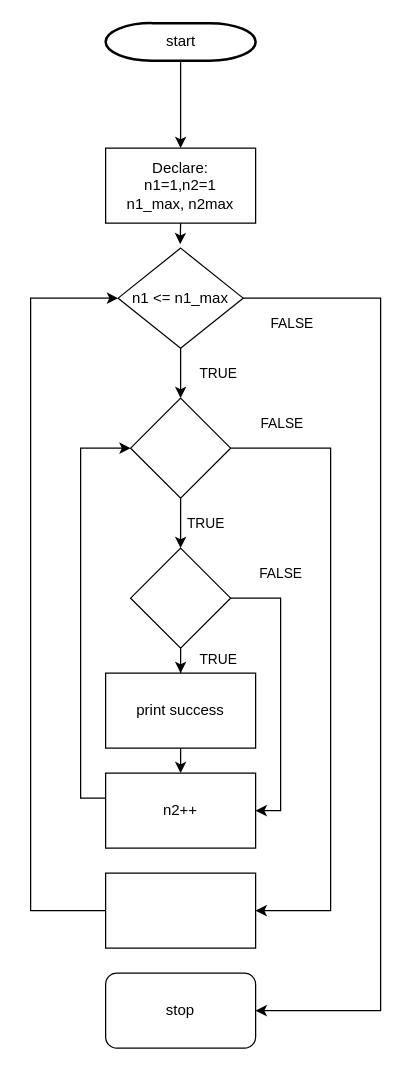
The diagram is 413 pixels wide and 1070 high, and some of its shapes have lost their labels. Each missing label, with the centre of its shape:
"n1++" goes at point 180,910.
"n1==sigma(n2) && n2==sigma(n1)" goes at point 180,597.
"n2 < n1" goes at point 180,447.
